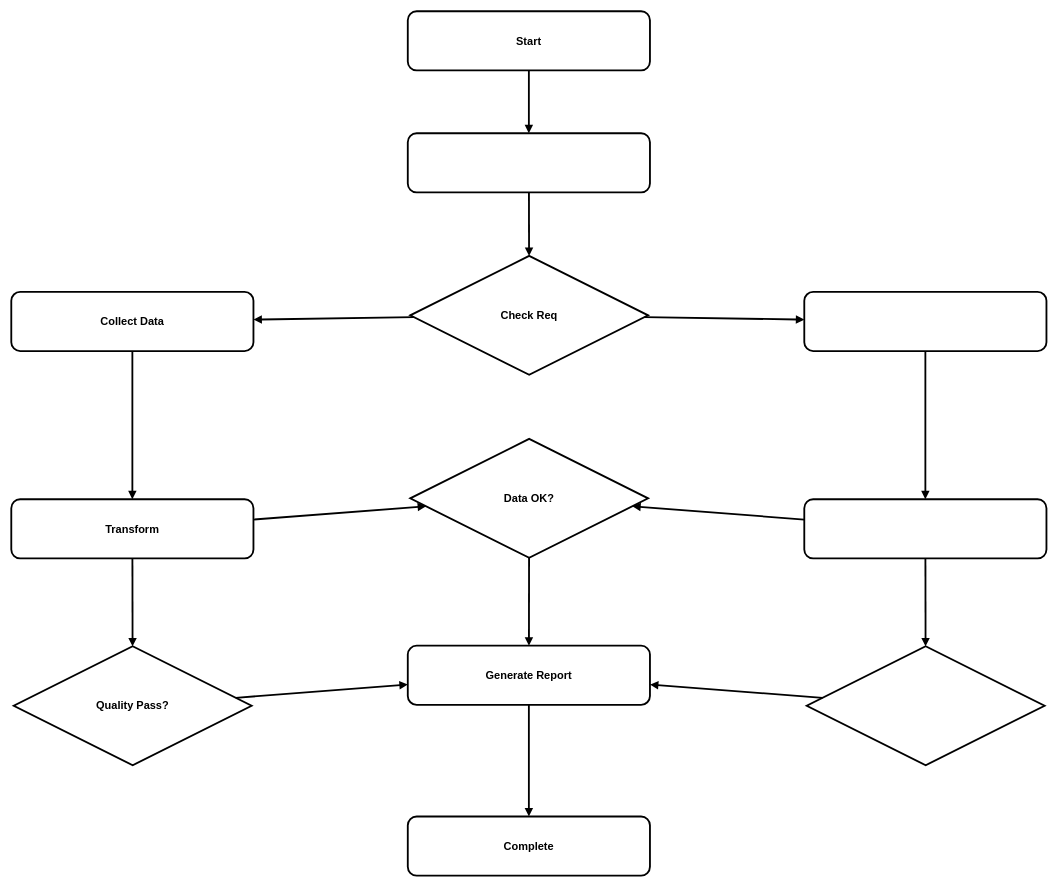
Image size: 1058x887. Some labels were removed from this diagram. Here are the shapes that lost their labels. From the top down, the centre of each, then its label:
the point at 529,162: Input
the point at 925,321: Validate Data
the point at 925,528: Store
the point at 925,705: Archive?
